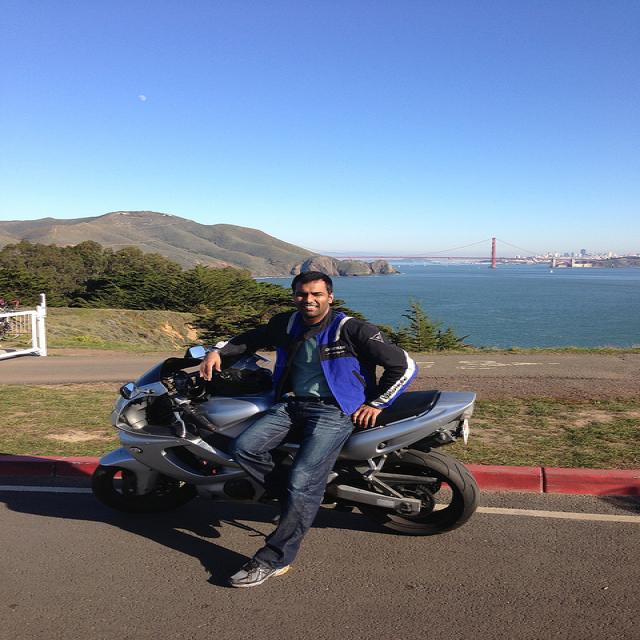motor: (91, 346, 480, 536)
